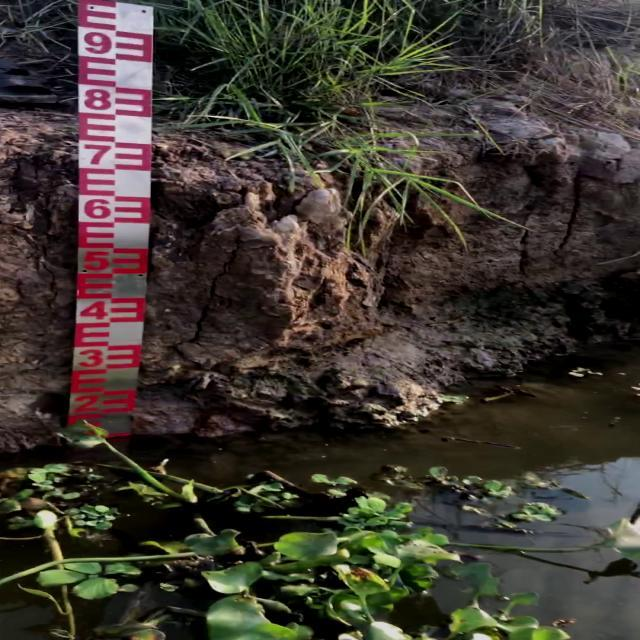ruler: (40, 0, 197, 458)
value: (78, 25, 118, 61), (78, 83, 118, 117), (79, 138, 117, 172), (79, 194, 117, 226), (78, 246, 115, 278), (77, 297, 113, 326), (74, 343, 109, 372), (68, 389, 104, 415)
